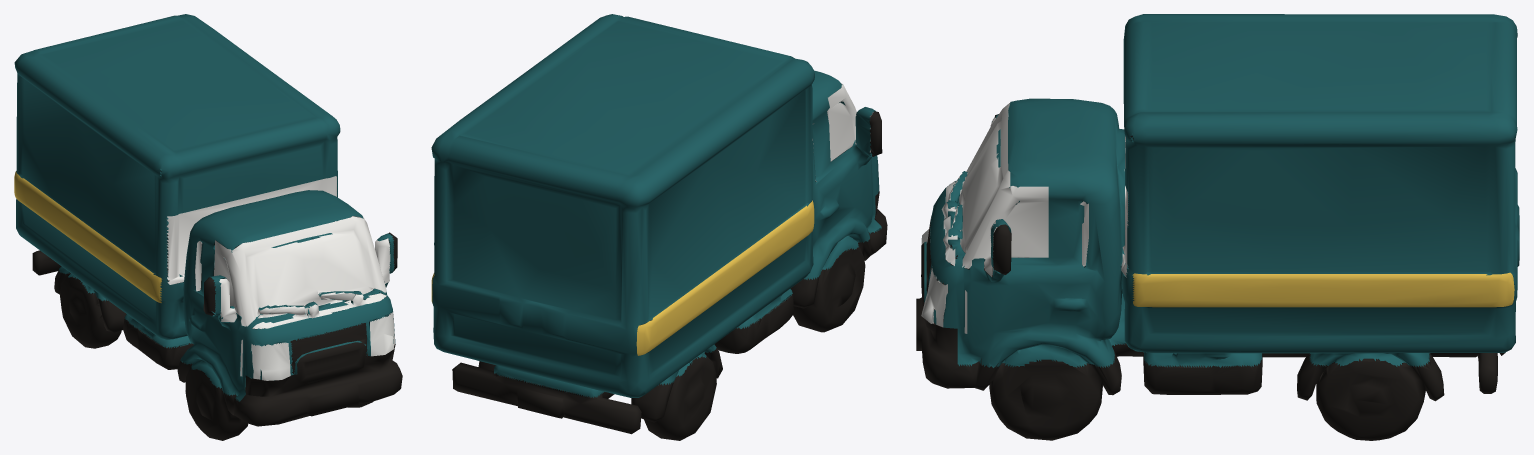
The model's file is truck.glb.
3 renders of one model, left to right at view 1: azimuth 30°, elevation 25°; view 2: azimuth 150°, elevation 25°; view 3: azimuth 270°, elevation 25°, orthographic. The views are drawn at different scales.
Visible parts, largest first — view 1: hy_truck; view 2: hy_truck; view 3: hy_truck.
Part boxes in pixels (x1=…): hy_truck: x1=14, y1=14, x2=402, y2=440; hy_truck: x1=431, y1=14, x2=887, y2=440; hy_truck: x1=916, y1=14, x2=1519, y2=440.
Bounding box in the file's own units: 0.6137 × 0.785 × 1.3.
